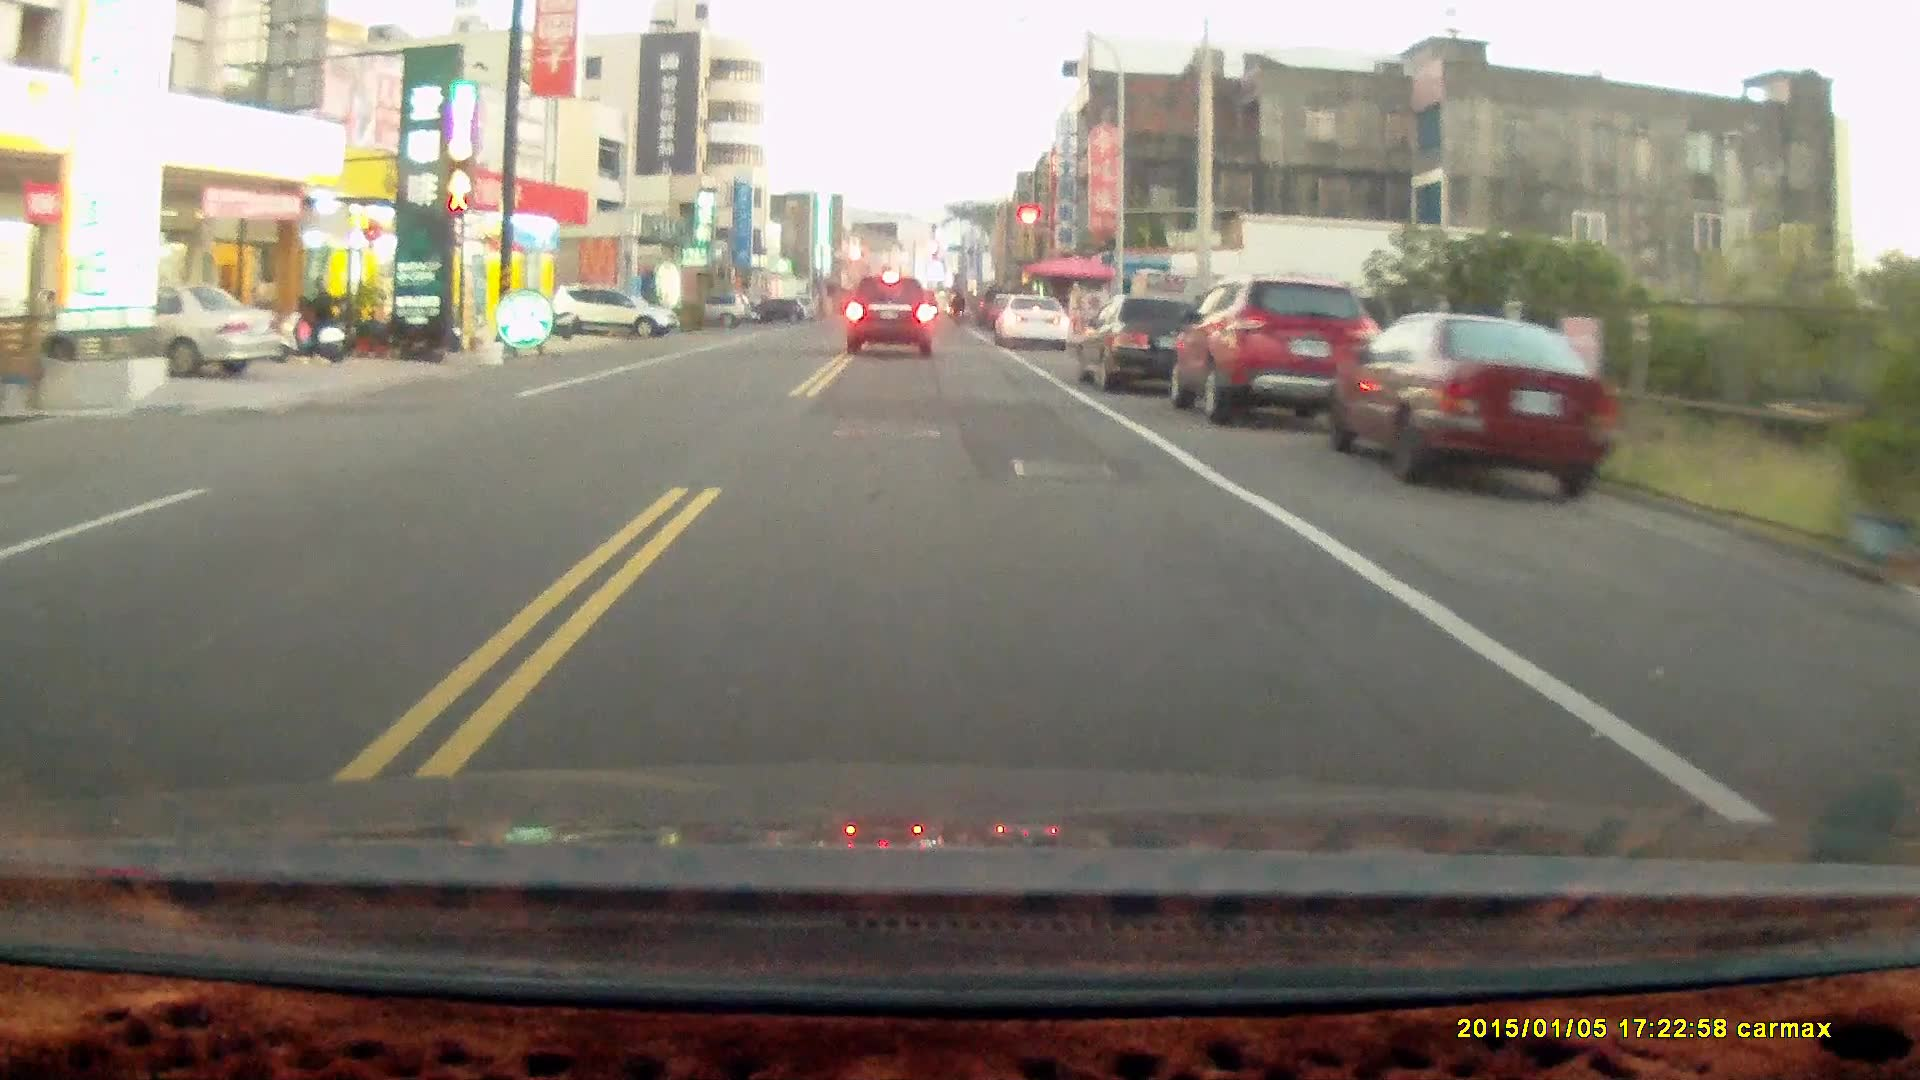vehicle: (1325, 311, 1621, 504), (1176, 276, 1394, 427), (61, 284, 280, 382), (1077, 293, 1218, 393), (553, 285, 680, 344), (847, 278, 938, 361), (996, 294, 1072, 352)
